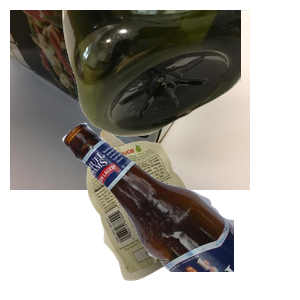cardboard: (10, 10, 250, 190)
glass: (60, 120, 300, 300)
plastic: (60, 10, 300, 139)
trash: (84, 126, 291, 300)
